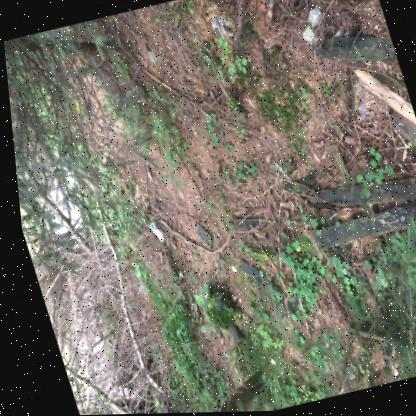Metal: (145, 221, 163, 243)
Waste: (269, 162, 289, 184)
